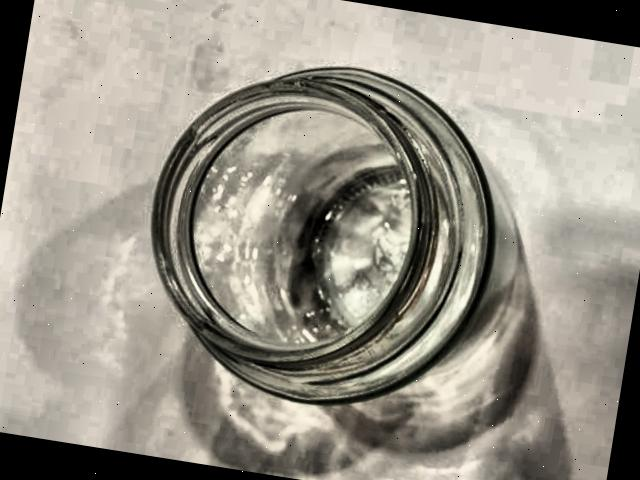Almennt: (106, 15, 544, 441)
